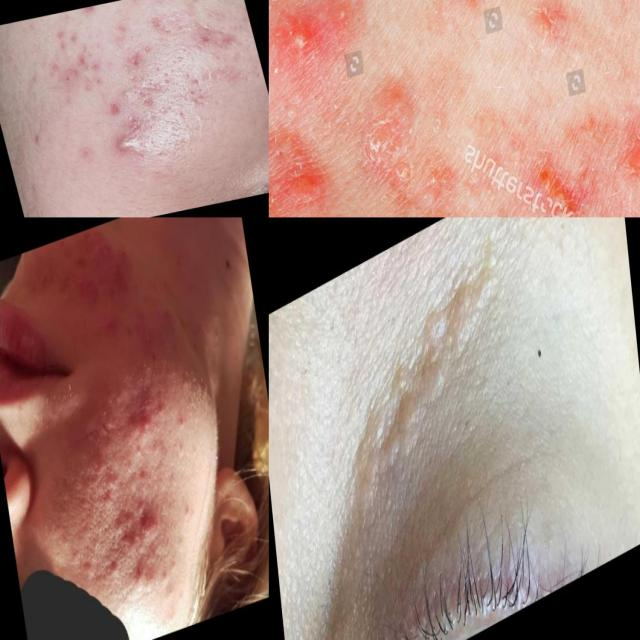acne_scars: (17, 118, 51, 150), (52, 20, 82, 51), (147, 12, 179, 38), (122, 45, 150, 72), (212, 29, 243, 53), (182, 68, 210, 90), (140, 86, 162, 112), (192, 20, 211, 50), (74, 49, 96, 71), (101, 100, 125, 120)
comedone: (111, 78, 143, 108), (206, 296, 229, 328), (102, 467, 121, 492), (102, 493, 113, 512)
cystic: (138, 503, 160, 546)
papule: (107, 125, 154, 158), (107, 502, 143, 542), (130, 554, 158, 601), (128, 408, 155, 449), (118, 525, 144, 563), (81, 271, 103, 310), (98, 406, 120, 442), (140, 318, 158, 353), (98, 234, 116, 266), (106, 554, 125, 580), (76, 557, 95, 583)
pustule: (286, 4, 324, 64)
sebo-crystan-conglo: (524, 145, 575, 217)
syringoma: (334, 219, 538, 497)
